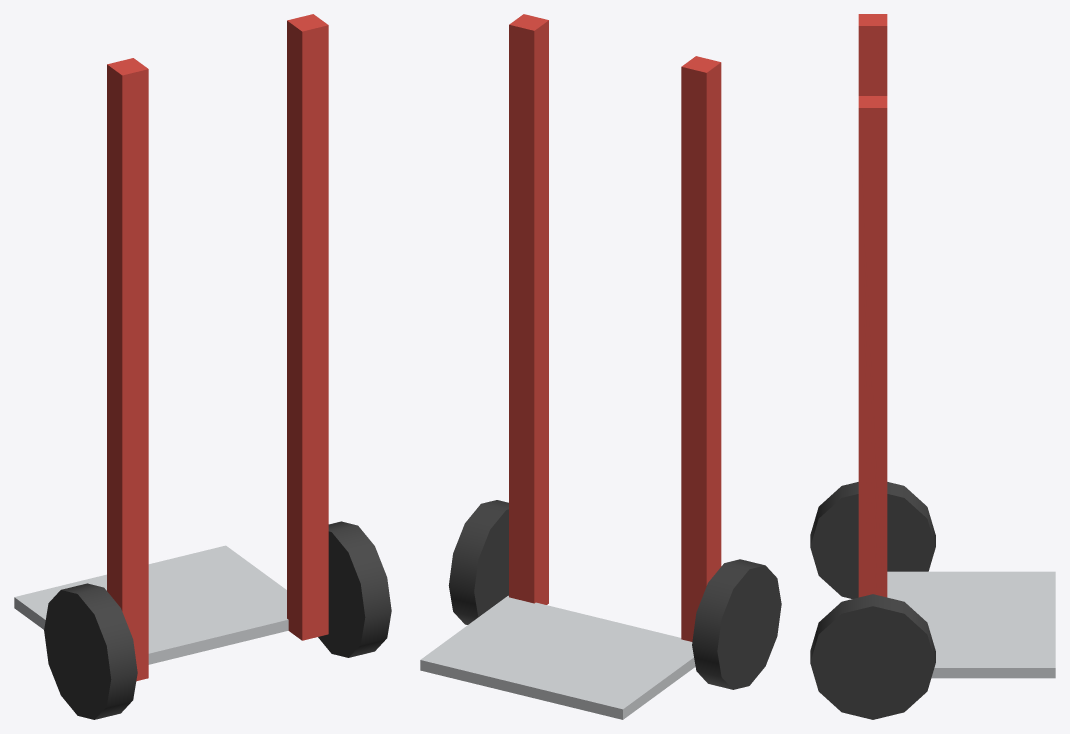
The model's file is hand_truck.glb.
The picture shows the model from 3 angles, left to right: view 1: azimuth 30°, elevation 25°; view 2: azimuth 150°, elevation 25°; view 3: azimuth 270°, elevation 25°; orthographic projection. The views are drawn at different scales.
Parts seen in each view (by area): view 1: hand_truck; view 2: hand_truck; view 3: hand_truck.
Boxes of the visible parts, bbox=[...] form: hand_truck: bbox=[14, 14, 391, 719]; hand_truck: bbox=[420, 14, 781, 719]; hand_truck: bbox=[810, 14, 1055, 719].
Size of the model in its own units: 0.53 by 1.15 by 0.43.
